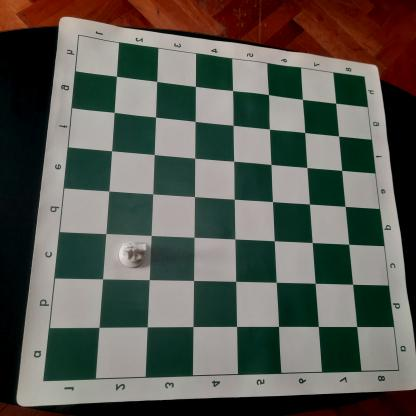white-knight: (115, 240, 148, 270)
